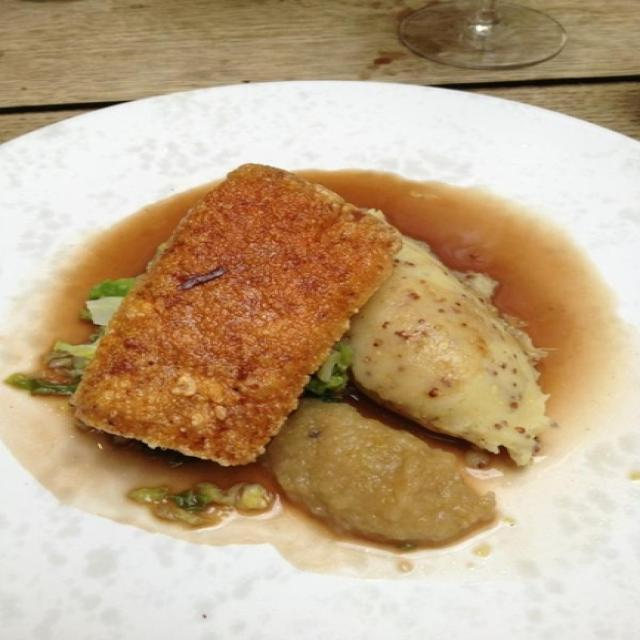牛肉菜式: (19, 50, 608, 608)
